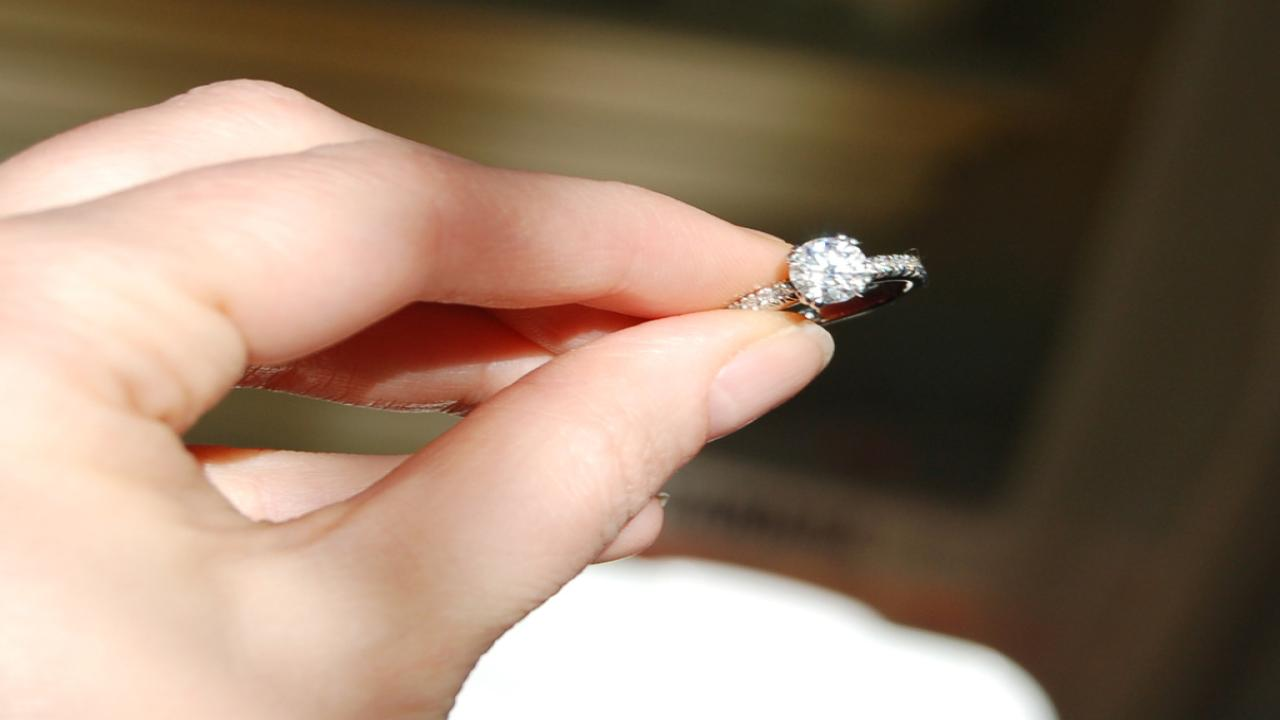ring: (728, 231, 928, 331)
